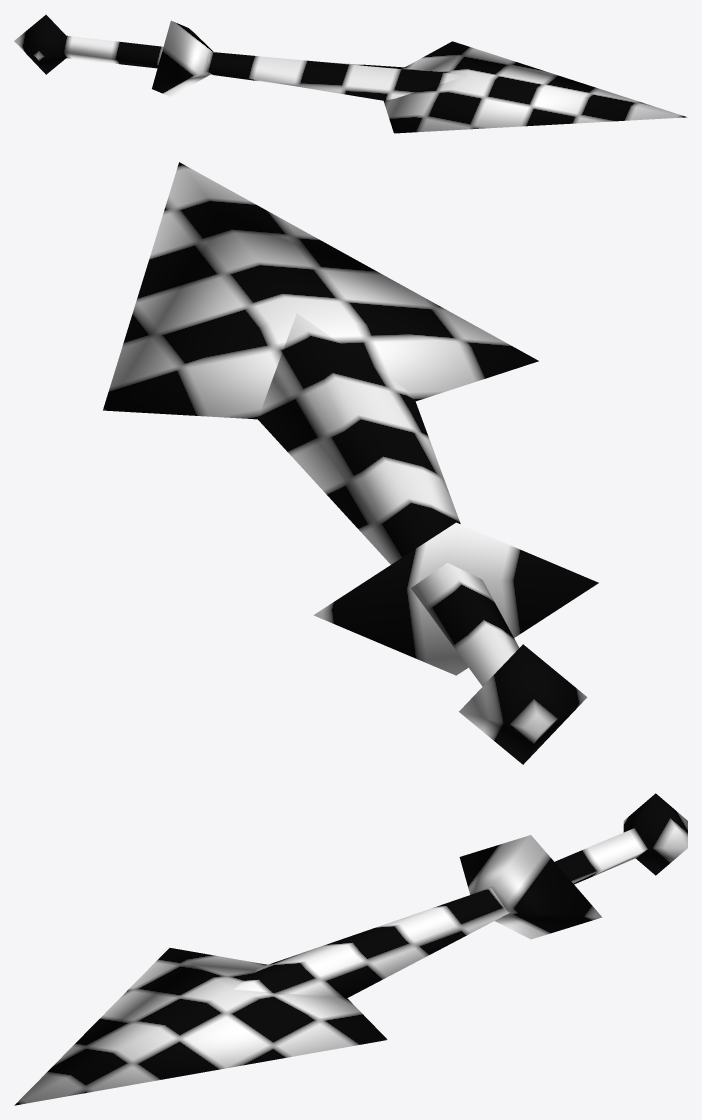
The model's file is initwesw4.dae.
The picture shows the model from 3 angles, top to bottom: view 1: azimuth 30°, elevation 25°; view 2: azimuth 150°, elevation 25°; view 3: azimuth 270°, elevation 25°; orthographic projection. The views are drawn at different scales.
Parts seen in each view (by area): view 1: weapon; view 2: weapon; view 3: weapon.
Boxes of the visible parts, x1,y1,x2,y2 form: weapon: (14, 14, 686, 133); weapon: (103, 162, 598, 764); weapon: (14, 793, 687, 1105).
Bounding box in the file's own units: 1.46 × 1.46 × 0.2498.
Materials: 1 (1 with a texture image).
